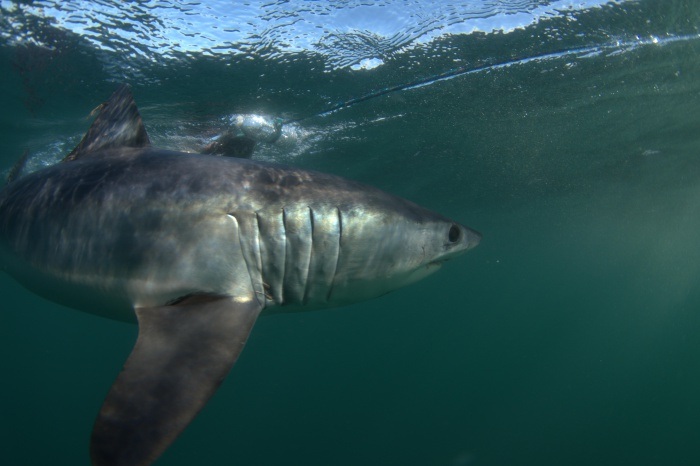Mako: (3, 78, 516, 465)
